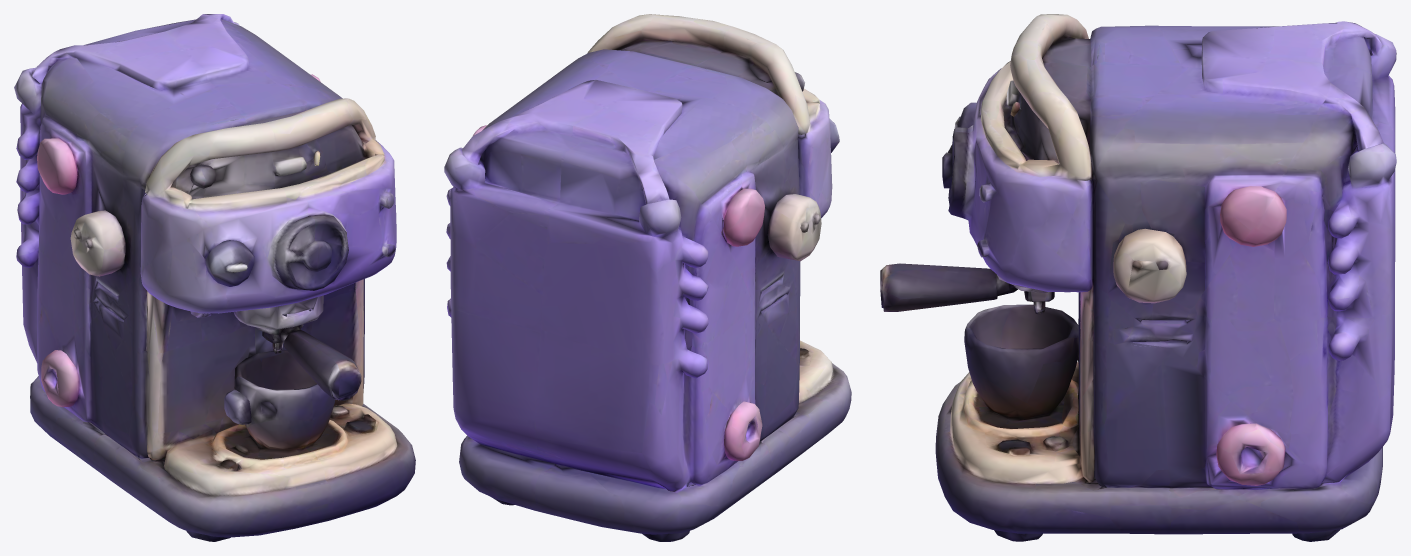
File: coffee_machine_real.glb
3 renders of one model, left to right at view 1: azimuth 30°, elevation 25°; view 2: azimuth 150°, elevation 25°; view 3: azimuth 270°, elevation 25°, orthographic. The views are drawn at different scales.
Visible parts, largest first — view 1: tripo_node_2a89d0a2-278b-43a5-90b6-bfbbbc6705ec; view 2: tripo_node_2a89d0a2-278b-43a5-90b6-bfbbbc6705ec; view 3: tripo_node_2a89d0a2-278b-43a5-90b6-bfbbbc6705ec.
Part boxes in pixels (left/top/right/bottom): tripo_node_2a89d0a2-278b-43a5-90b6-bfbbbc6705ec: left=14, top=14, right=415, bottom=541; tripo_node_2a89d0a2-278b-43a5-90b6-bfbbbc6705ec: left=444, top=14, right=851, bottom=541; tripo_node_2a89d0a2-278b-43a5-90b6-bfbbbc6705ec: left=880, top=14, right=1396, bottom=541.
Bounding box in the file's own units: 0.7307 × 0.9235 × 0.9788.
Materials: 1 (1 with a texture image).
